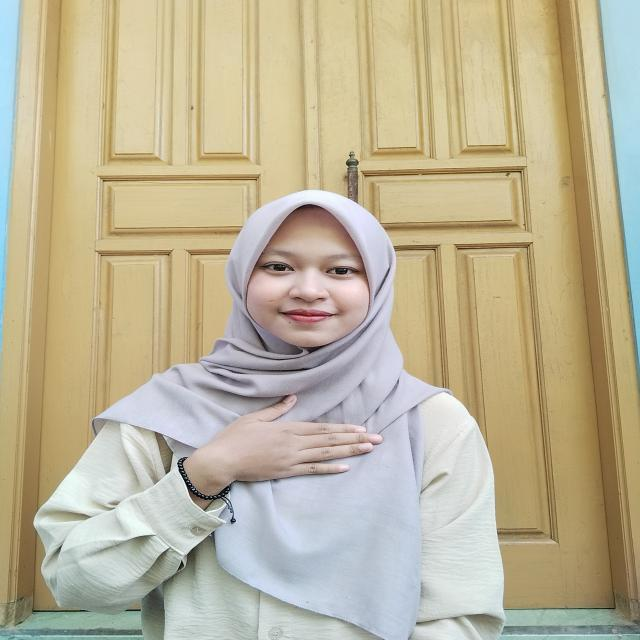tolong: (174, 389, 392, 530)
